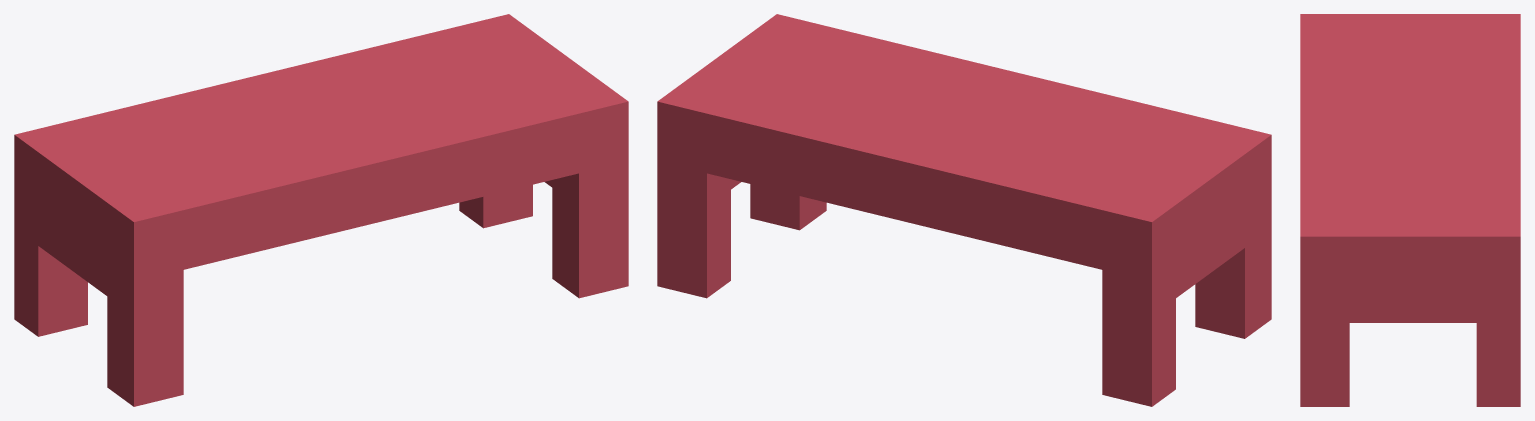
The model's file is Table.glb.
The picture shows the model from 3 angles, left to right: view 1: azimuth 30°, elevation 25°; view 2: azimuth 150°, elevation 25°; view 3: azimuth 270°, elevation 25°; orthographic projection. The views are drawn at different scales.
Parts seen in each view (by area): view 1: Mesh_Mesh_head_geo.001_lambert2SG.001; view 2: Mesh_Mesh_head_geo.001_lambert2SG.001; view 3: Mesh_Mesh_head_geo.001_lambert2SG.001.
Part boxes in pixels (x1,y1,x2,y2): Mesh_Mesh_head_geo.001_lambert2SG.001: (14,14,628,406); Mesh_Mesh_head_geo.001_lambert2SG.001: (657,14,1271,406); Mesh_Mesh_head_geo.001_lambert2SG.001: (1300,14,1520,406).
Size of the model in its own units: 119 by 42.61 by 50.
